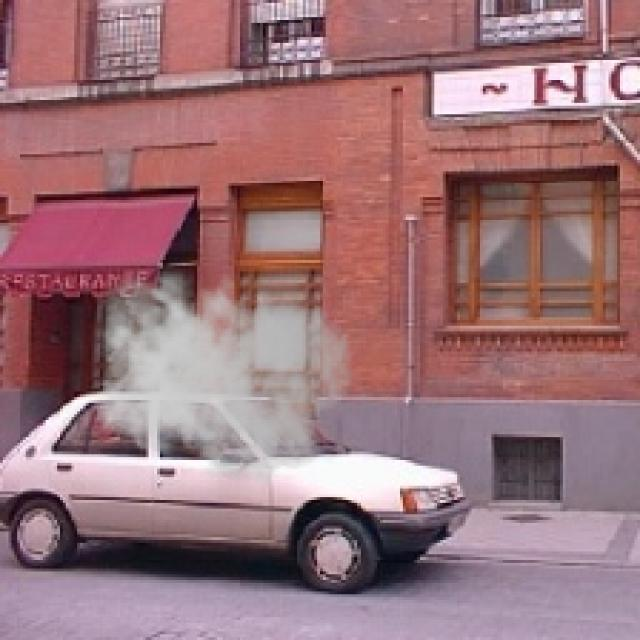Smoke: (86, 257, 354, 489)
